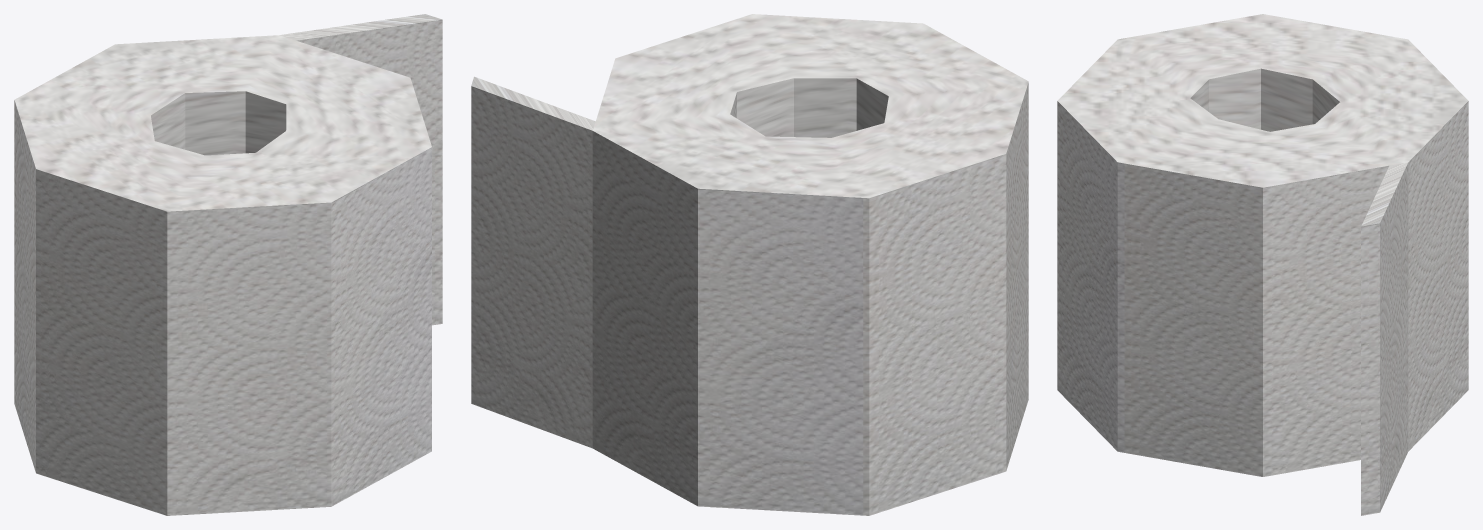
The model's file is toiletPaper.fbx.
3 views of the same model, side by side, from view 1: azimuth 30°, elevation 25°; view 2: azimuth 150°, elevation 25°; view 3: azimuth 270°, elevation 25° (orthographic). The views are drawn at different scales.
Parts seen in each view (by area): view 1: MSH_toiletPaper; view 2: MSH_toiletPaper; view 3: MSH_toiletPaper.
Boxes of the visible parts, box(x1,y1,x2,y2) form: MSH_toiletPaper: box(14, 14, 442, 515); MSH_toiletPaper: box(471, 14, 1028, 515); MSH_toiletPaper: box(1057, 14, 1468, 515).
Bounding box in the file's own units: 1.52 × 0.9662 × 1.24.
